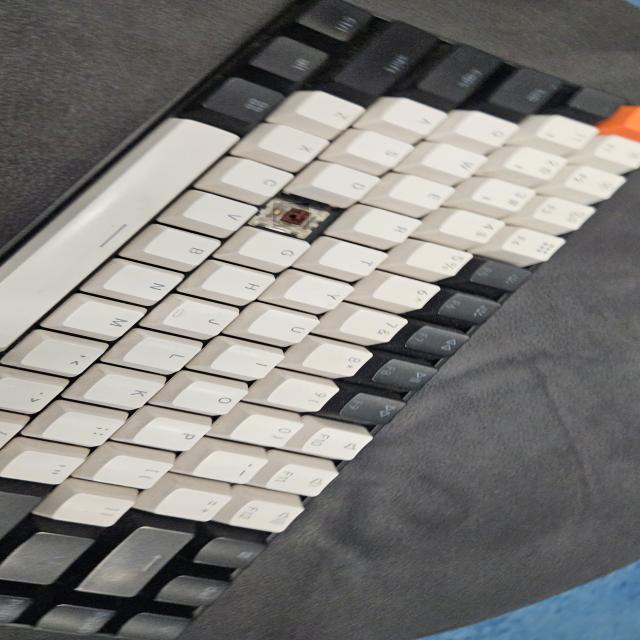C: (273, 203, 309, 227)
